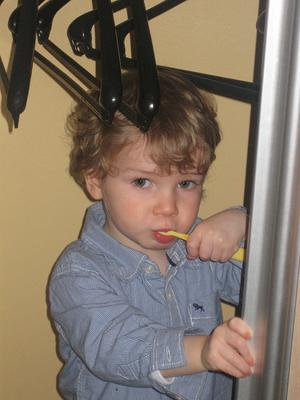person: (47, 66, 257, 400)
